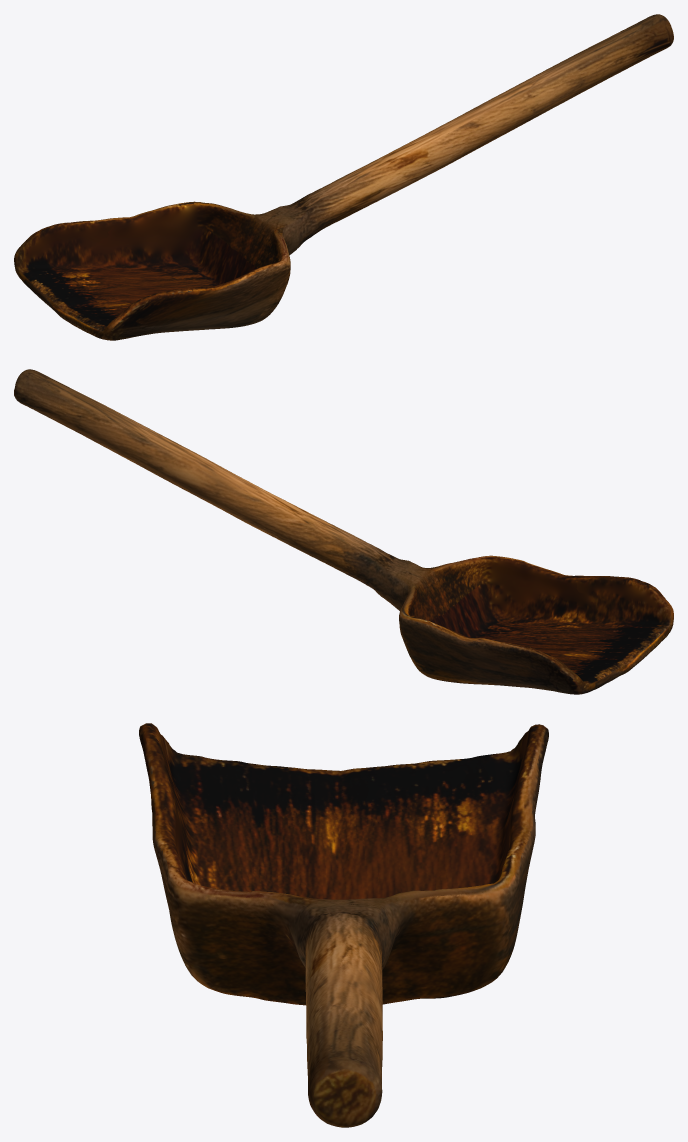
Rendered from wooden-shovel.glb.
The picture shows the model from 3 angles, top to bottom: view 1: azimuth 30°, elevation 25°; view 2: azimuth 150°, elevation 25°; view 3: azimuth 270°, elevation 25°; orthographic projection. The views are drawn at different scales.
Parts seen in each view (by area): view 1: texture_pbr_v128; view 2: texture_pbr_v128; view 3: texture_pbr_v128.
Boxes of the visible parts, left/top/right/bottom form: texture_pbr_v128: left=14, top=14, right=673, bottom=340; texture_pbr_v128: left=14, top=369, right=673, bottom=694; texture_pbr_v128: left=139, top=723, right=548, bottom=1127.
Size of the model in its own units: 1.15 by 0.333 by 0.3362.
Materials: 1 (1 with a texture image).
